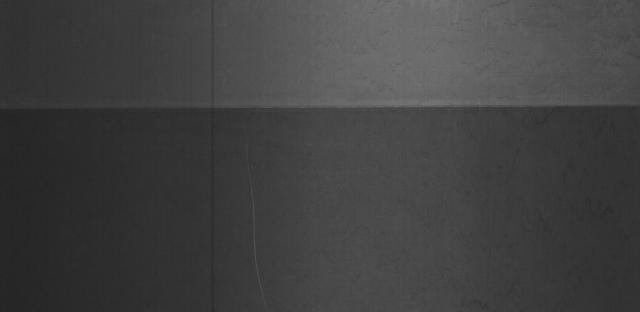welding_line: (2, 95, 640, 123)
